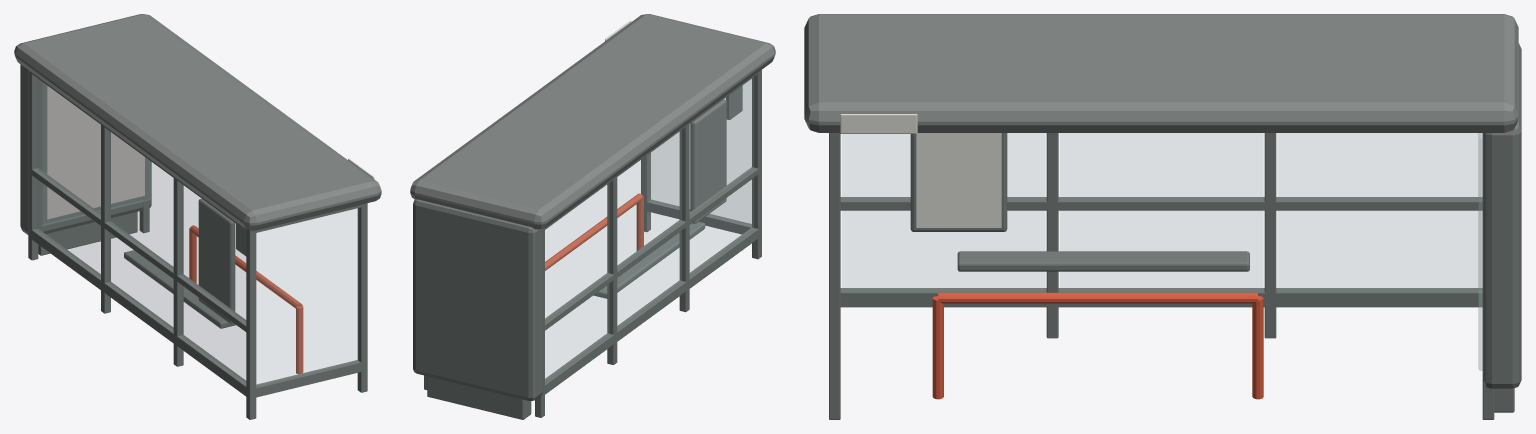
Rendered from preston-bus-shelter.glb.
3 renders of one model, left to right at view 1: azimuth 30°, elevation 25°; view 2: azimuth 150°, elevation 25°; view 3: azimuth 270°, elevation 25°, orthographic. The views are drawn at different scales.
Visible parts, largest first — view 1: BUSSTOP_Roof_Shell, BUSSTOP_Glass_Left, BUSSTOP_Frame, BUSSTOP_Glass_Rear03, BUSSTOP_Glass_Rear01, BUSSTOP_Glass_Rear02, BUSSTOP_Advert_DecalSurface, BUSSTOP_AdvertHousing_Outer, BUSSTOP_Timetable_Backplate, BUSSTOP_Frame_LeftFrontUpright, BUSSTOP_Frame_LeftBottomRail, BUSSTOP_AdvertHousing_Plinth (+7 smaller); view 2: BUSSTOP_Roof_Shell, BUSSTOP_AdvertHousing_Outer, BUSSTOP_Frame, BUSSTOP_Glass_Rear03, BUSSTOP_Glass_Rear02, BUSSTOP_Glass_Rear01, BUSSTOP_Glass_Left, BUSSTOP_Timetable_Backplate, BUSSTOP_AdvertHousing_Plinth, BUSSTOP_Bench_Perch, BUSSTOP_Frame_LeftBottomRail, BUSSTOP_BenchRail_Horizontal (+3 smaller); view 3: BUSSTOP_Roof_Shell, BUSSTOP_Glass_Rear03, BUSSTOP_Glass_Rear02, BUSSTOP_Frame, BUSSTOP_Glass_Rear01, BUSSTOP_AdvertHousing_Outer, BUSSTOP_Timetable_DecalSurface, BUSSTOP_Bench_Perch, BUSSTOP_BenchRail_Horizontal, BUSSTOP_Frame_LeftFrontUpright, BUSSTOP_Timetable_Backplate, BUSSTOP_Number_DecalSurface (+4 smaller).
Part boxes in pixels (box(x1,y1,x2,y2)): BUSSTOP_Roof_Shell: box(14, 14, 381, 230); BUSSTOP_Glass_Left: box(256, 208, 358, 385); BUSSTOP_Frame: box(28, 71, 256, 419); BUSSTOP_Glass_Rear03: box(36, 78, 100, 275); BUSSTOP_Glass_Rear01: box(181, 184, 245, 382); BUSSTOP_Glass_Rear02: box(109, 131, 173, 328); BUSSTOP_Advert_DecalSurface: box(47, 86, 144, 219); BUSSTOP_AdvertHousing_Outer: box(20, 64, 151, 234); BUSSTOP_Timetable_Backplate: box(198, 198, 235, 323); BUSSTOP_Frame_LeftFrontUpright: box(357, 203, 367, 392); BUSSTOP_Frame_LeftBottomRail: box(252, 360, 365, 398); BUSSTOP_AdvertHousing_Plinth: box(38, 211, 137, 255); BUSSTOP_Roof_Shell: box(410, 14, 775, 229); BUSSTOP_AdvertHousing_Outer: box(413, 199, 543, 400); BUSSTOP_Frame: box(535, 70, 761, 417); BUSSTOP_Glass_Rear03: box(545, 183, 609, 380); BUSSTOP_Glass_Rear02: box(617, 130, 681, 327); BUSSTOP_Glass_Rear01: box(690, 77, 753, 274); BUSSTOP_Glass_Left: box(650, 79, 751, 224); BUSSTOP_Timetable_Backplate: box(690, 99, 726, 223); BUSSTOP_AdvertHousing_Plinth: box(427, 376, 531, 419); BUSSTOP_Bench_Perch: box(593, 221, 705, 298); BUSSTOP_Frame_LeftBottomRail: box(644, 199, 751, 234); BUSSTOP_BenchRail_Horizontal: box(545, 193, 643, 270); BUSSTOP_Roof_Shell: box(804, 14, 1518, 132); BUSSTOP_Glass_Rear03: box(1277, 133, 1478, 289); BUSSTOP_Glass_Rear02: box(1060, 133, 1263, 289); BUSSTOP_Frame: box(840, 133, 1482, 338); BUSSTOP_Glass_Rear01: box(842, 133, 1045, 289); BUSSTOP_AdvertHousing_Outer: box(1483, 43, 1521, 388); BUSSTOP_Timetable_DecalSurface: box(916, 133, 1001, 227); BUSSTOP_Bench_Perch: box(957, 251, 1249, 271); BUSSTOP_BenchRail_Horizontal: box(938, 292, 1257, 303); BUSSTOP_Frame_LeftFrontUpright: box(829, 133, 840, 419); BUSSTOP_Timetable_Backplate: box(910, 133, 1007, 231); BUSSTOP_Number_DecalSurface: box(840, 114, 917, 133).
Size of the model in its own units: 1.74 by 2.55 by 5.2.
